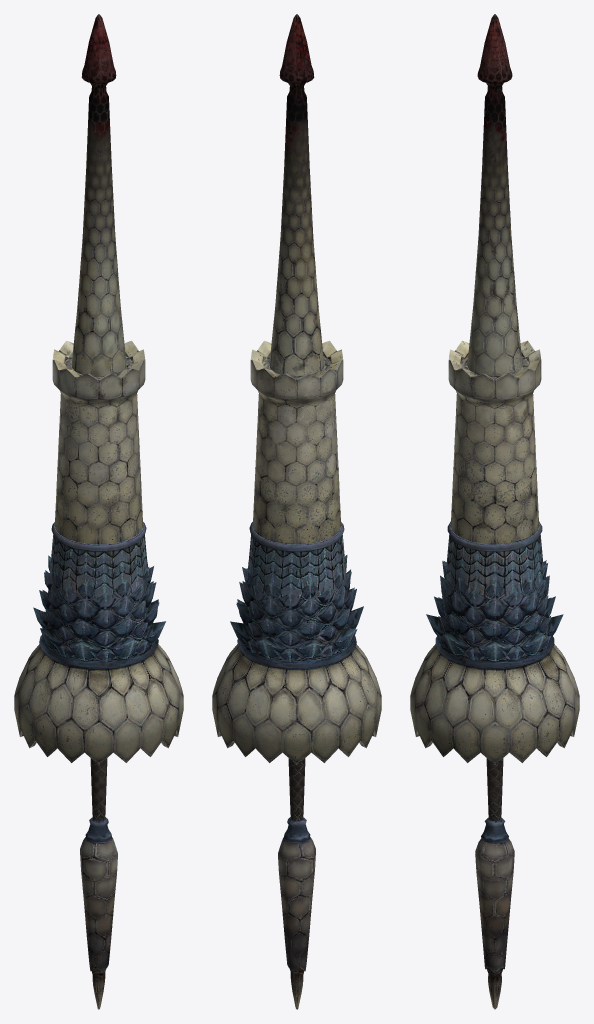
The model's file is lan006.obj.
3 views of the same model, side by side, from view 1: azimuth 30°, elevation 25°; view 2: azimuth 150°, elevation 25°; view 3: azimuth 270°, elevation 25° (orthographic).
Parts seen in each view (by area): view 1: lan006_000_LOD_1, lan006_001_LOD_1; view 2: lan006_000_LOD_1, lan006_001_LOD_1; view 3: lan006_000_LOD_1, lan006_001_LOD_1.
Boxes of the visible parts, bbox=[...] form: lan006_000_LOD_1: bbox=[14, 14, 183, 1009]; lan006_001_LOD_1: bbox=[33, 555, 165, 661]; lan006_000_LOD_1: bbox=[212, 14, 381, 1009]; lan006_001_LOD_1: bbox=[230, 555, 363, 661]; lan006_000_LOD_1: bbox=[410, 14, 579, 1009]; lan006_001_LOD_1: bbox=[426, 560, 563, 661].
Bounding box in the file's own units: 63.41 × 411 × 63.41.
